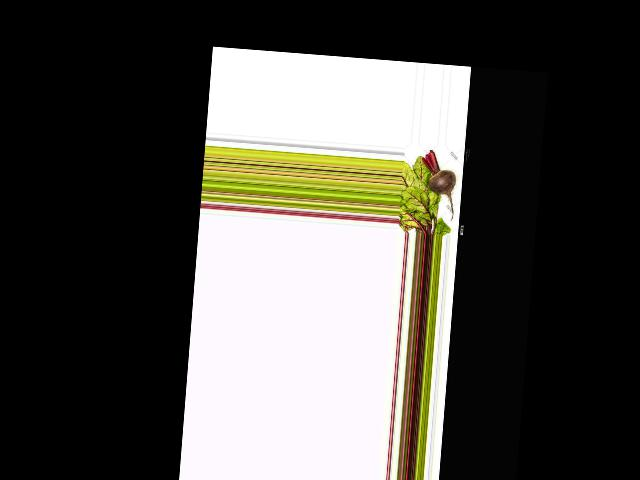beet: (417, 149, 458, 221)
